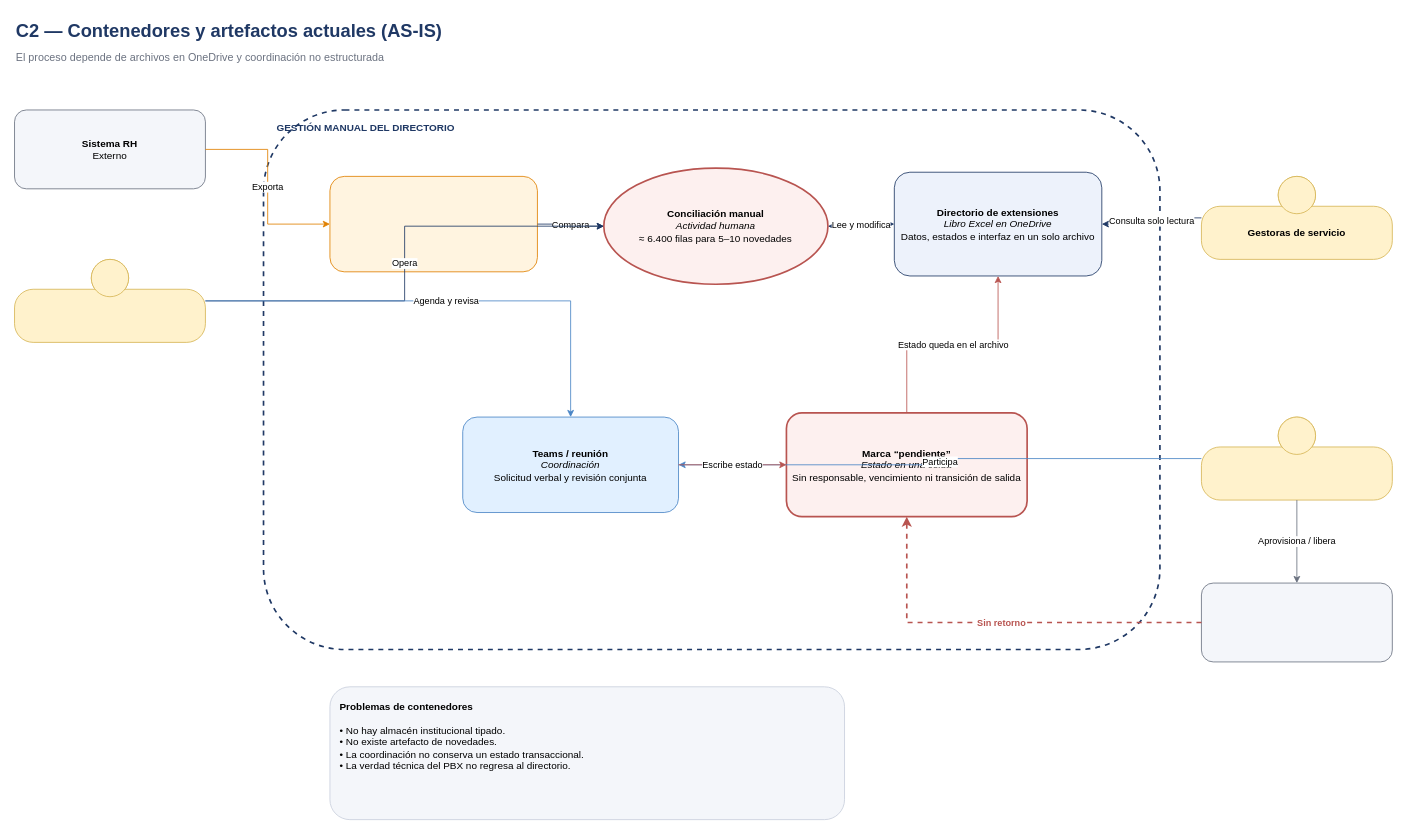
The diagram is 1407 pixels wide and 834 high, and some of its shapes have lost their labels. The box of each missing label's shape, as (x1, y1, x2, y2) in pixels:
Analista de Tecnología: (1201, 416, 1392, 500)
Archivo de nómina Excel Exportación mensual mes vencido: (329, 176, 537, 272)
PBX Externo · sin integración: (1201, 582, 1392, 662)
Profesional de Experiencia y Servicio: (14, 259, 205, 342)
